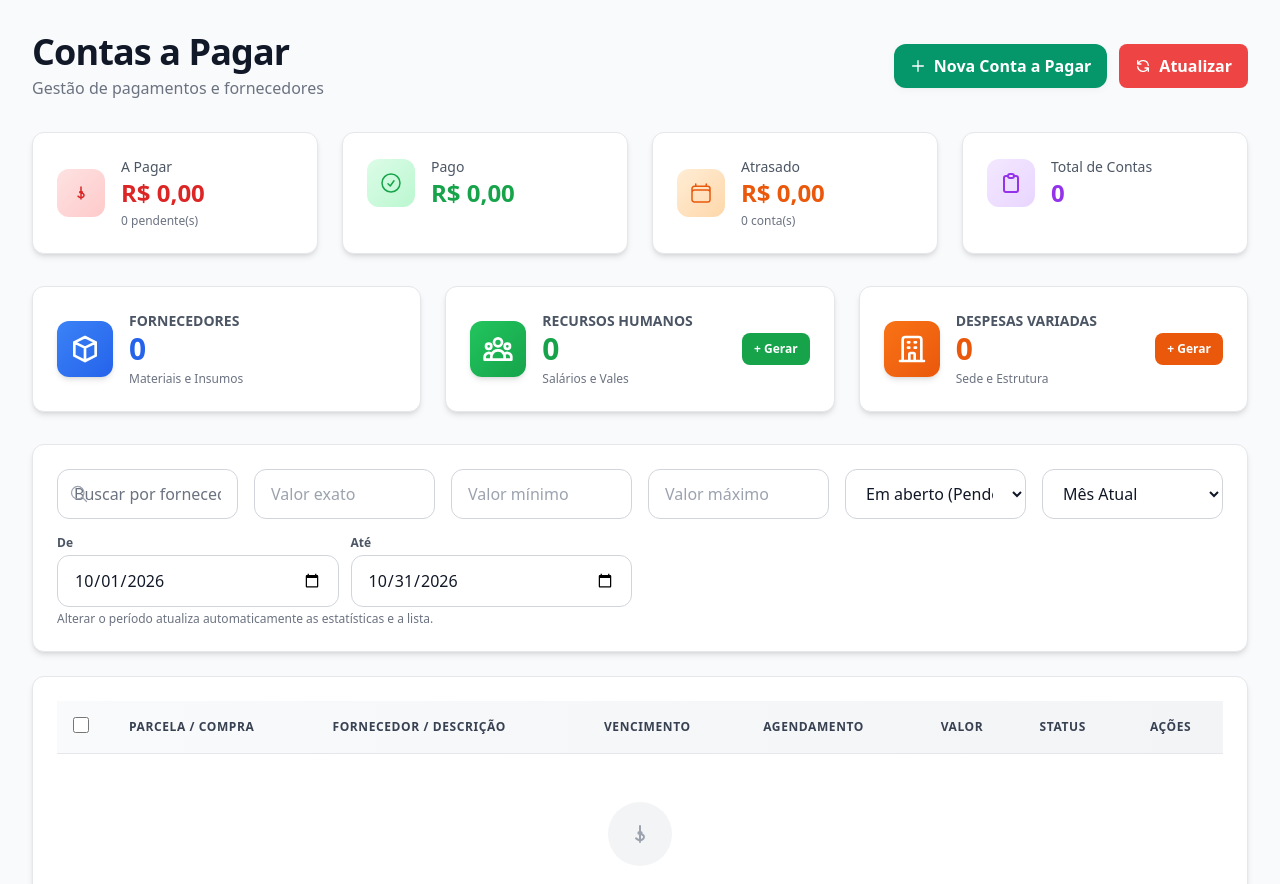
it: ContasAPagar - classificação (Nova Conta) › deve listar "Cartão de crédito" e "Outras Despesas" no select de Classificação
# Abrir modal "Nova Conta a Pagar"
Click the button "Nova Conta a Pagar" at (1001, 66), box [894, 44, 1107, 88]
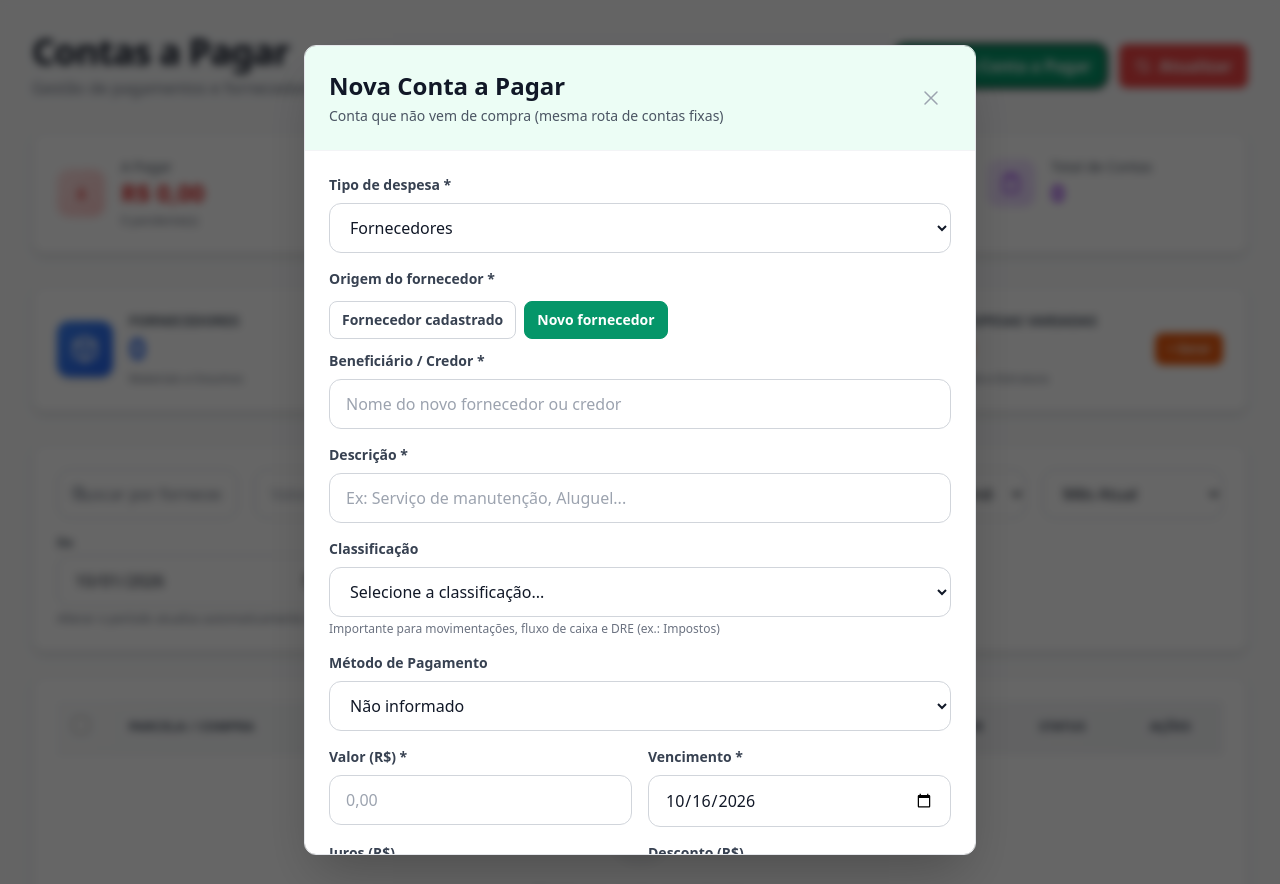
Expected: the dropdown named "Usado em movimentações, fluxo de caixa e DRE (ex.: Impostos)" is shown, [329, 567, 951, 617]
